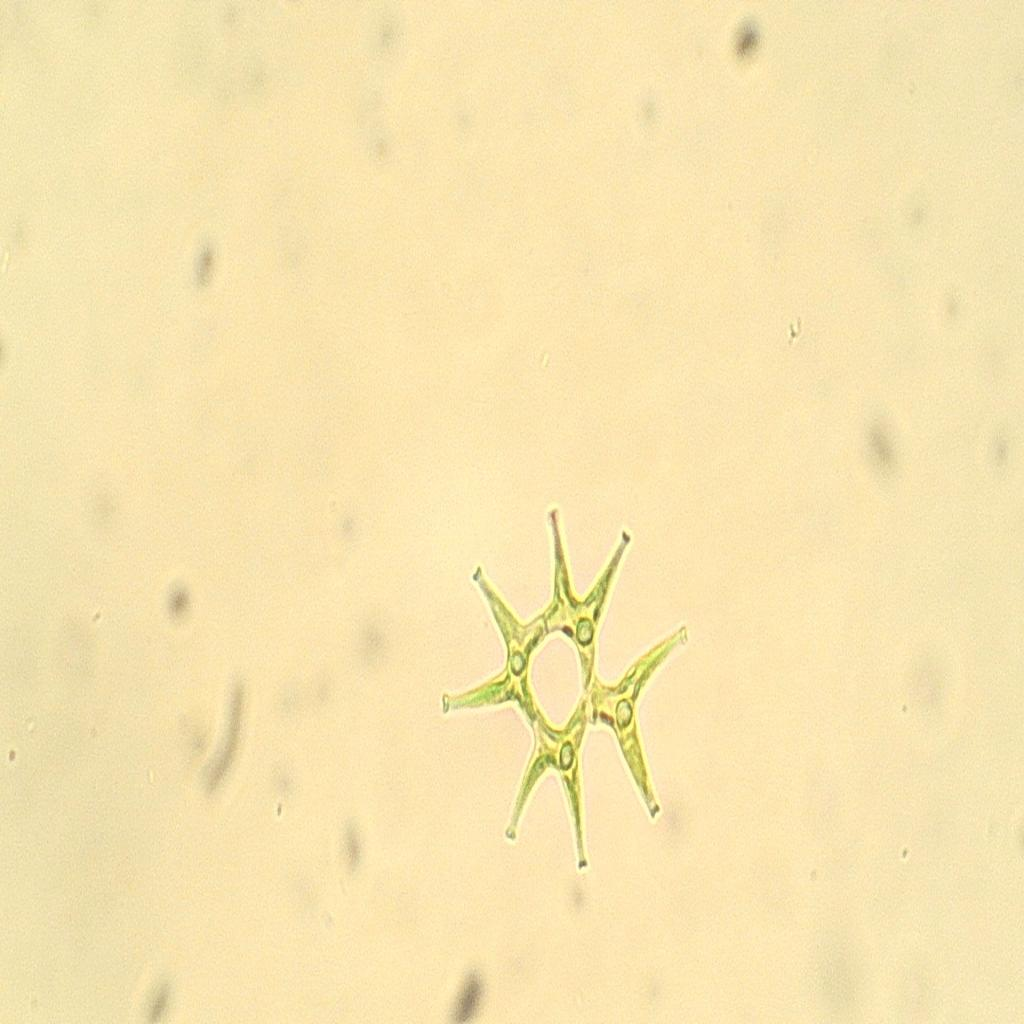Pediastrum_CT: (431, 484, 704, 895)
